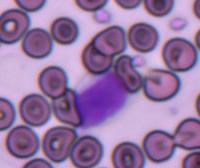L: (73, 69, 130, 128)
